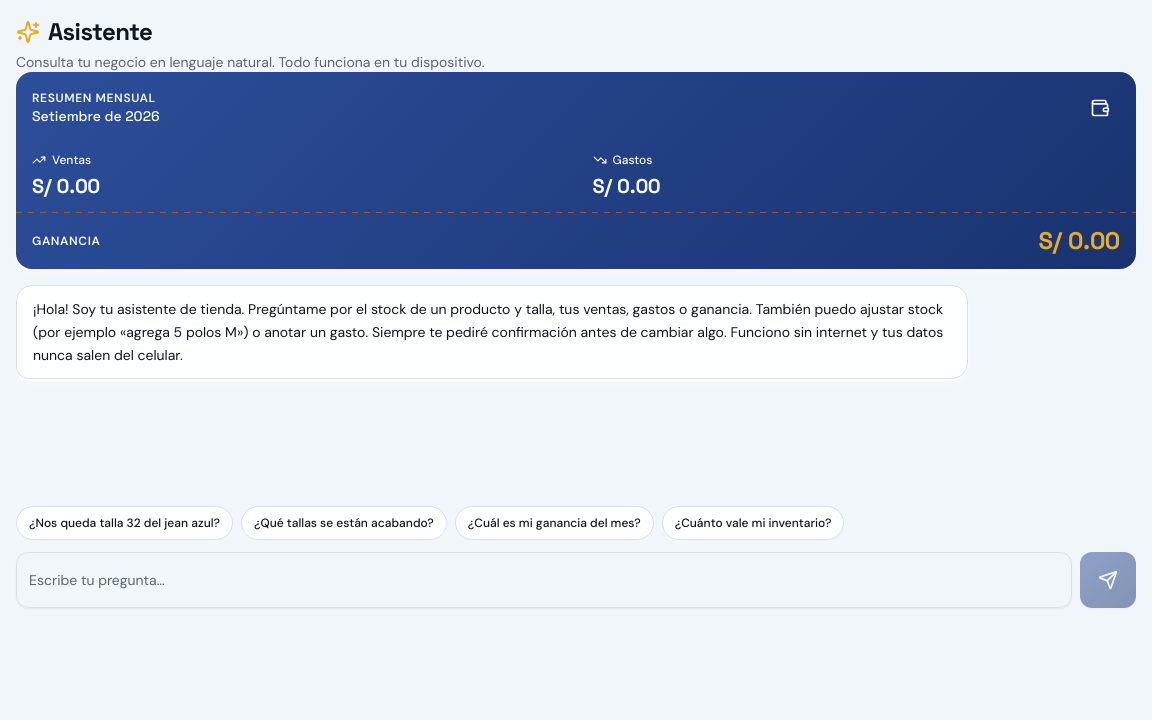
Test case: Asistente › responde una consulta de stock en lenguaje natural con datos reales
The image size is (1152, 720).
Step 1. Type "¿qué productos tienen stock bajo?" into the field with test id "asistente.input" → (544, 580), box [16,552,1072,608]
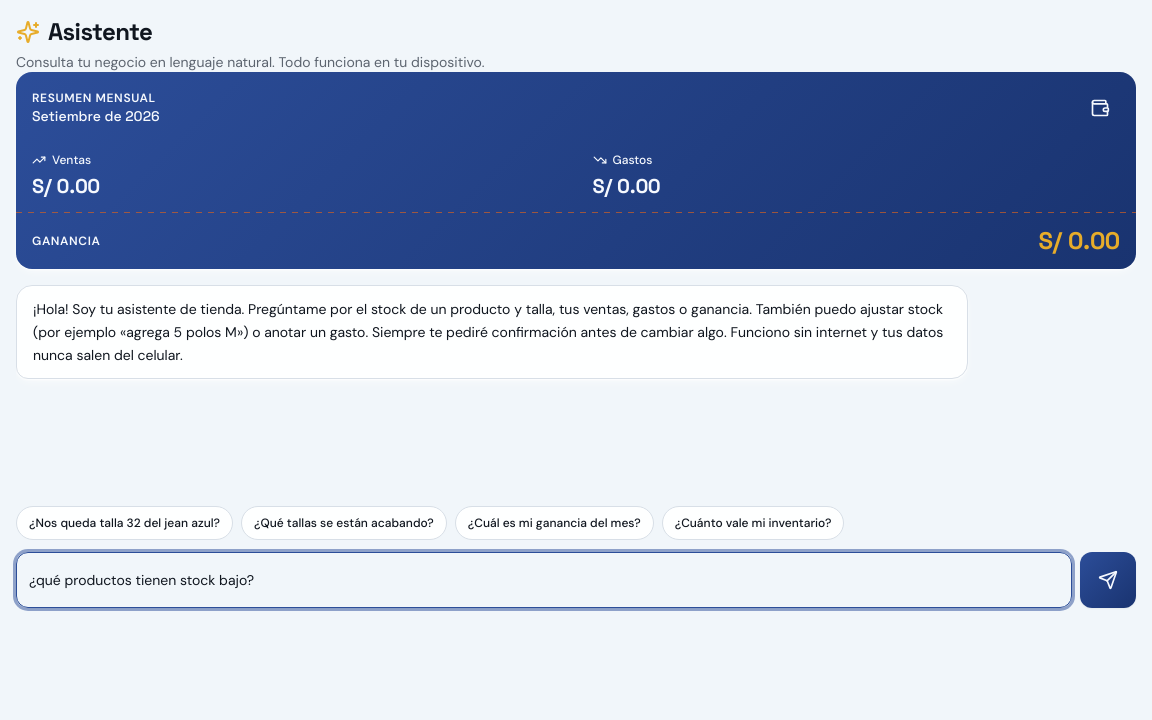
Step 2. Click the button with test id "asistente.send_button" → (1108, 580), box [1080,552,1136,608]
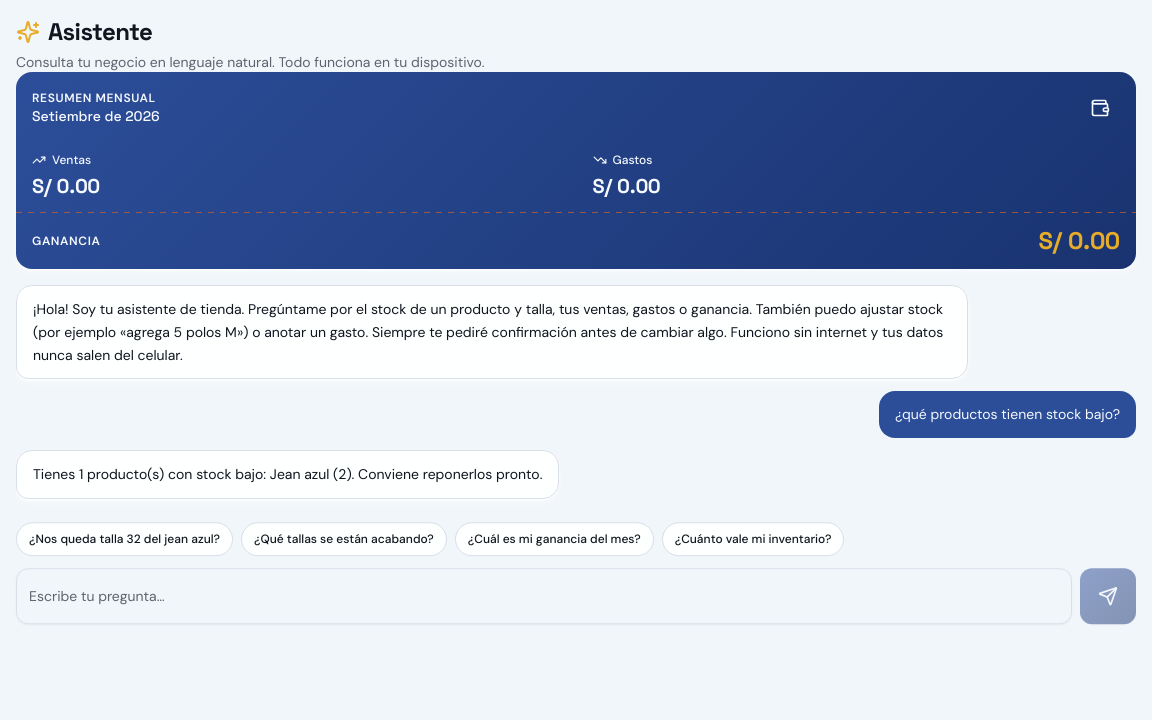
Expected: the text "Jean azul" is shown, [33,465,542,483]
